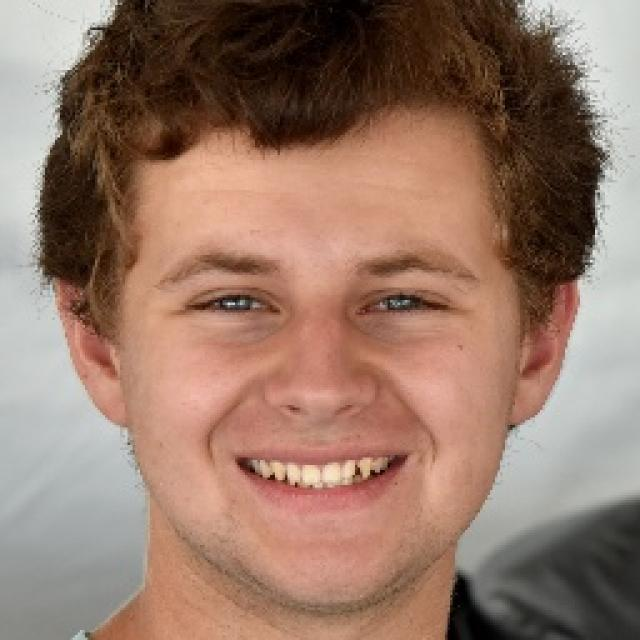earlobe: (48, 268, 130, 432), (510, 264, 580, 436)
